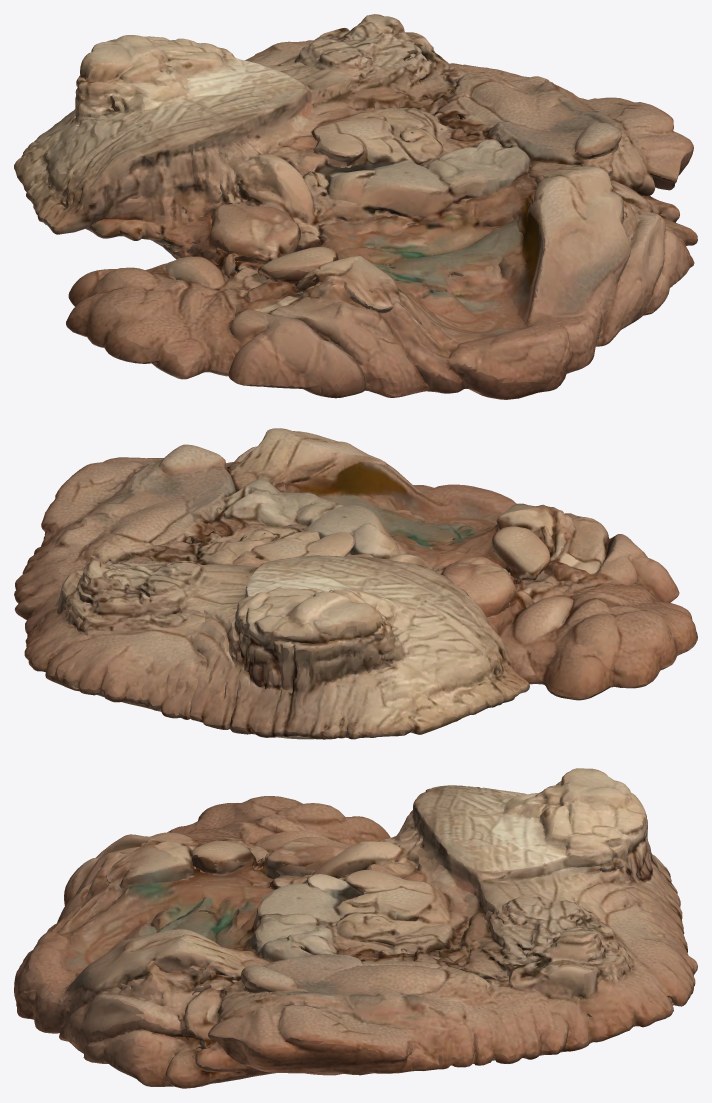
Rendered from granite-cliff-v3.glb.
3 views of the same model, one above another, from view 1: azimuth 30°, elevation 25°; view 2: azimuth 150°, elevation 25°; view 3: azimuth 270°, elevation 25° (orthographic). The views are drawn at different scales.
Visible parts, largest first — view 1: geometry_0; view 2: geometry_0; view 3: geometry_0.
Part boxes in pixels (<box>): geometry_0: <box>14,14,697,399</box>; geometry_0: <box>14,428,697,739</box>; geometry_0: <box>14,768,697,1088</box>.
Size of the model in its own units: 0.45 by 0.1283 by 0.4498.
1 material, 1 textured.
